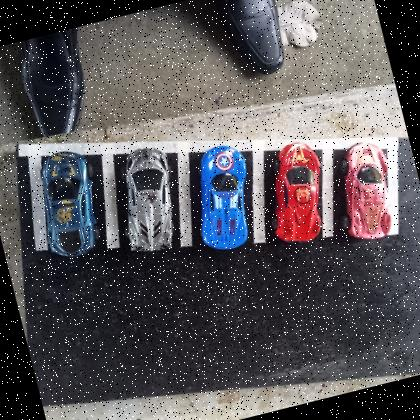Car: (27, 146, 111, 262), (182, 140, 264, 254), (254, 137, 338, 247), (108, 143, 188, 258), (324, 136, 406, 246)
